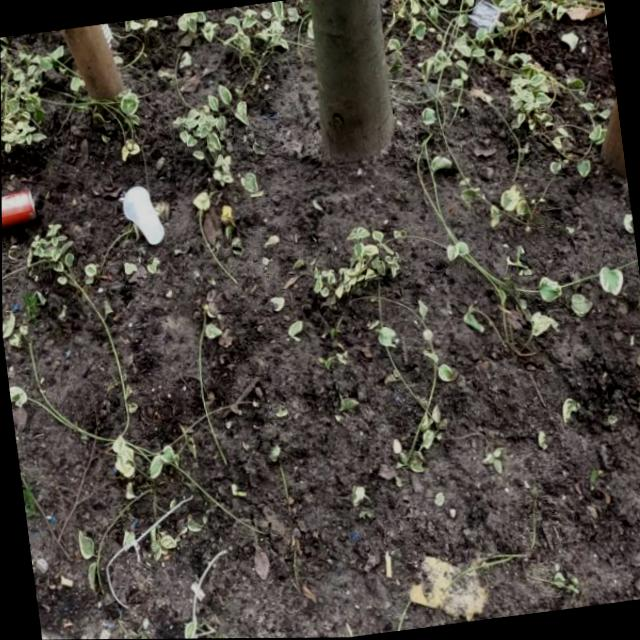Can-Metal: (1, 186, 41, 235)
Cup: (119, 182, 166, 248)
